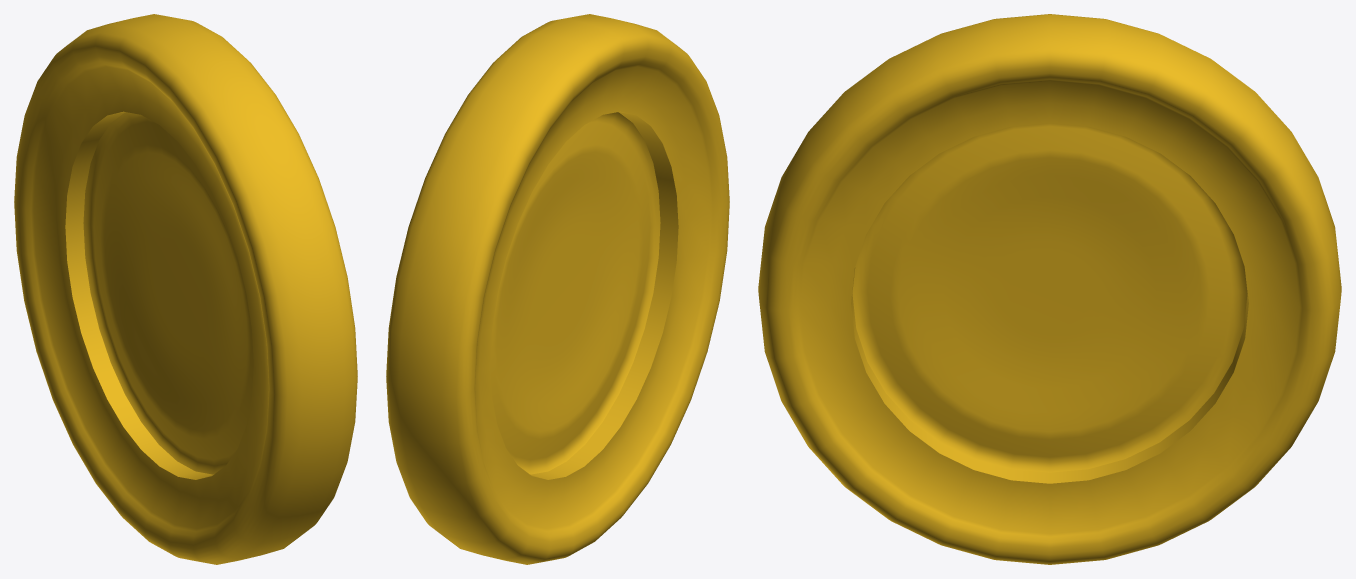
Rendered from coin.fbx.
3 views of the same model, side by side, from view 1: azimuth 30°, elevation 25°; view 2: azimuth 150°, elevation 25°; view 3: azimuth 270°, elevation 25° (orthographic). The views are drawn at different scales.
Parts seen in each view (by area): view 1: Cylinder; view 2: Cylinder; view 3: Cylinder.
Part boxes in pixels (x1,y1,x2,y2): Cylinder: (14, 14, 357, 564); Cylinder: (386, 14, 729, 564); Cylinder: (758, 14, 1341, 564).
Bounding box in the file's own units: 11.52 × 67.09 × 67.09.
